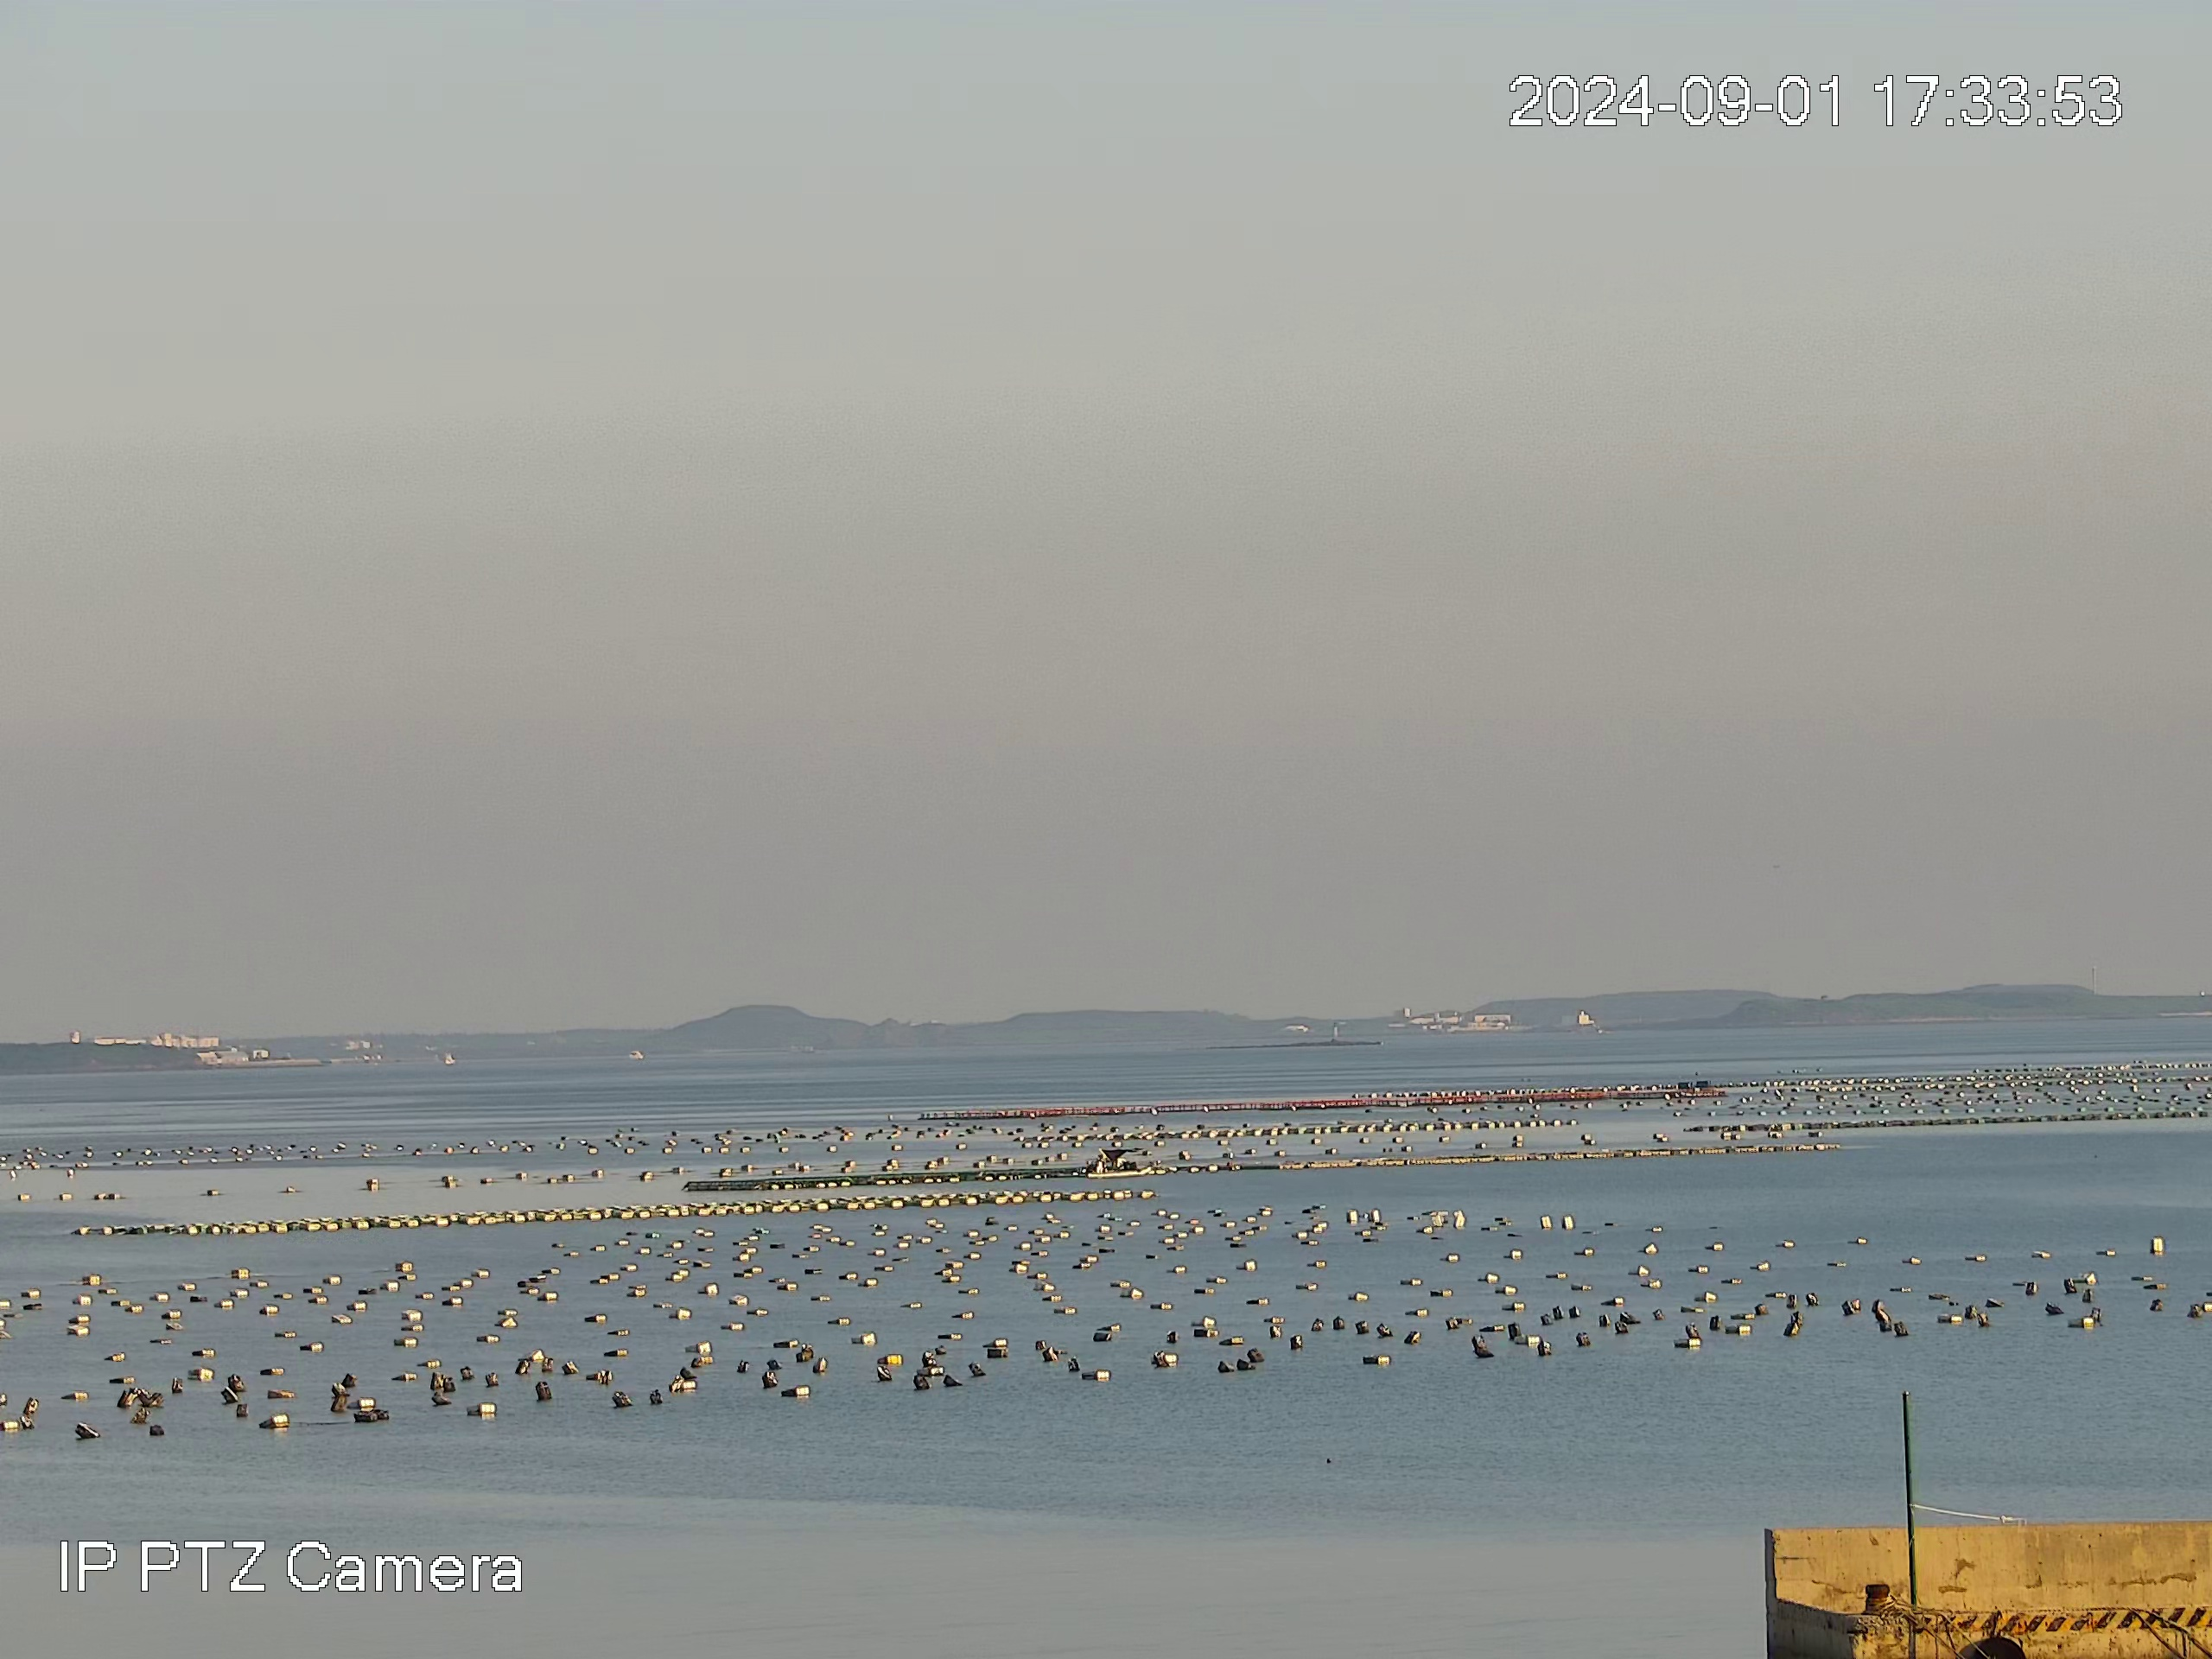boat: (1090, 1141, 1154, 1173)
